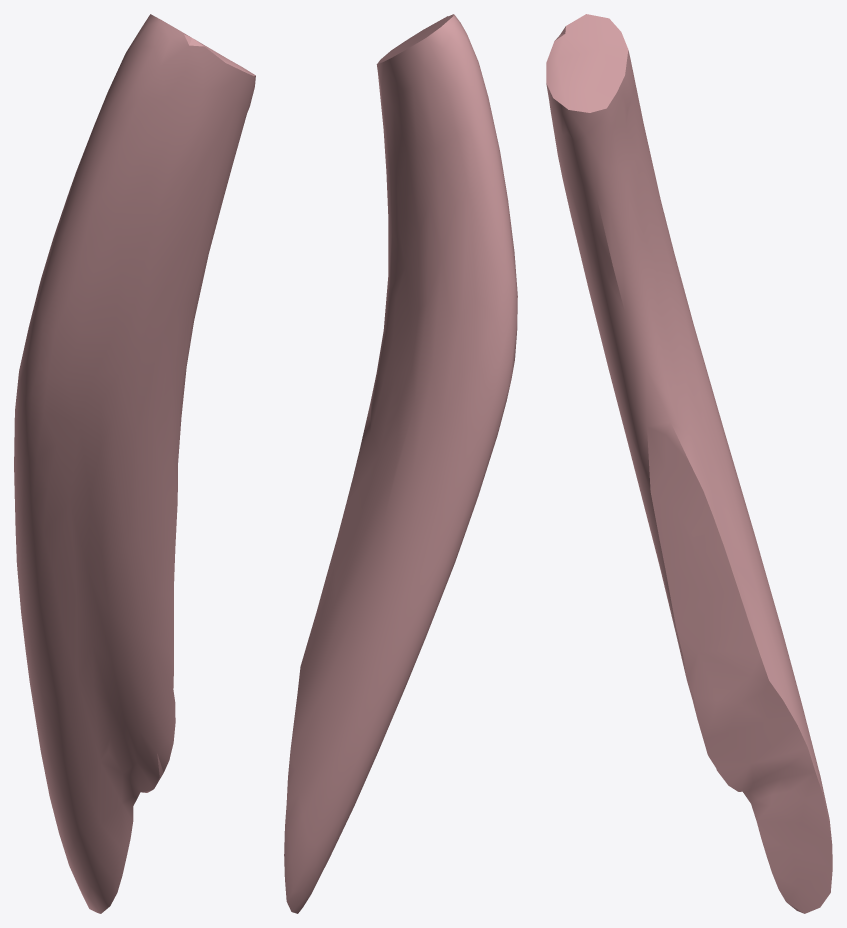
Rendered from fma22781_mm1306m.glb.
3 renders of one model, left to right at view 1: azimuth 30°, elevation 25°; view 2: azimuth 150°, elevation 25°; view 3: azimuth 270°, elevation 25°, orthographic. The views are drawn at different scales.
Visible parts, largest first — view 1: FMA22781_MM1306M; view 2: FMA22781_MM1306M; view 3: FMA22781_MM1306M.
Part boxes in pixels (bbox=[...]): FMA22781_MM1306M: bbox=[14, 14, 255, 913]; FMA22781_MM1306M: bbox=[284, 14, 517, 913]; FMA22781_MM1306M: bbox=[546, 14, 832, 913].
Size of the model in its own units: 0.0128 by 0.0641 by 0.0191.
